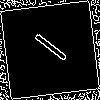I: (25, 25, 70, 64)
